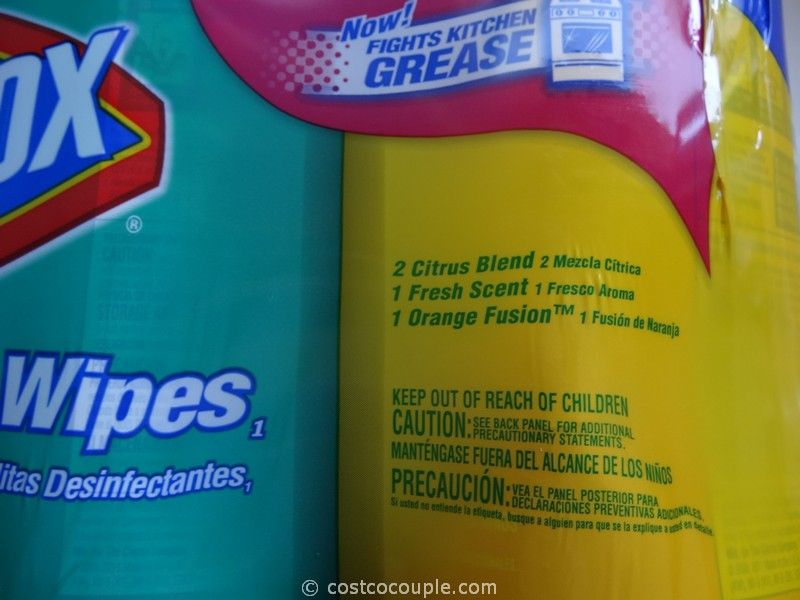Wipes: (351, 3, 800, 592), (1, 4, 342, 600)
